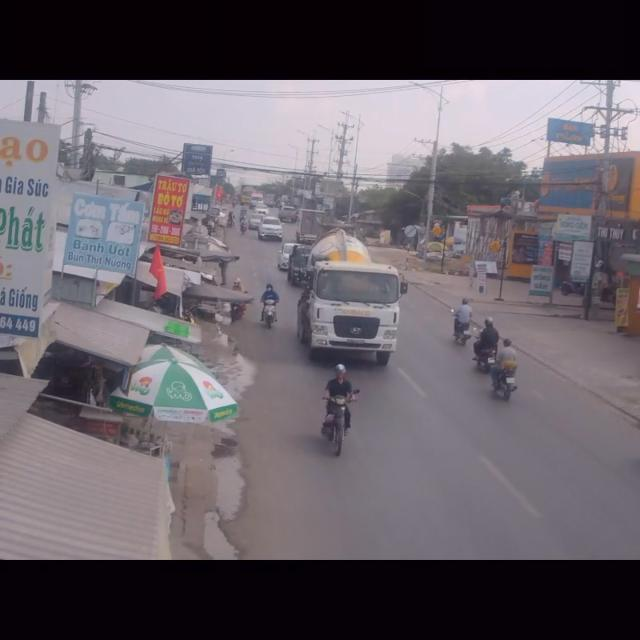motorbike: (319, 360, 358, 459), (486, 336, 518, 404), (473, 315, 502, 376), (451, 298, 473, 348), (261, 279, 280, 328)
truck: (303, 233, 406, 368), (285, 246, 311, 286)
